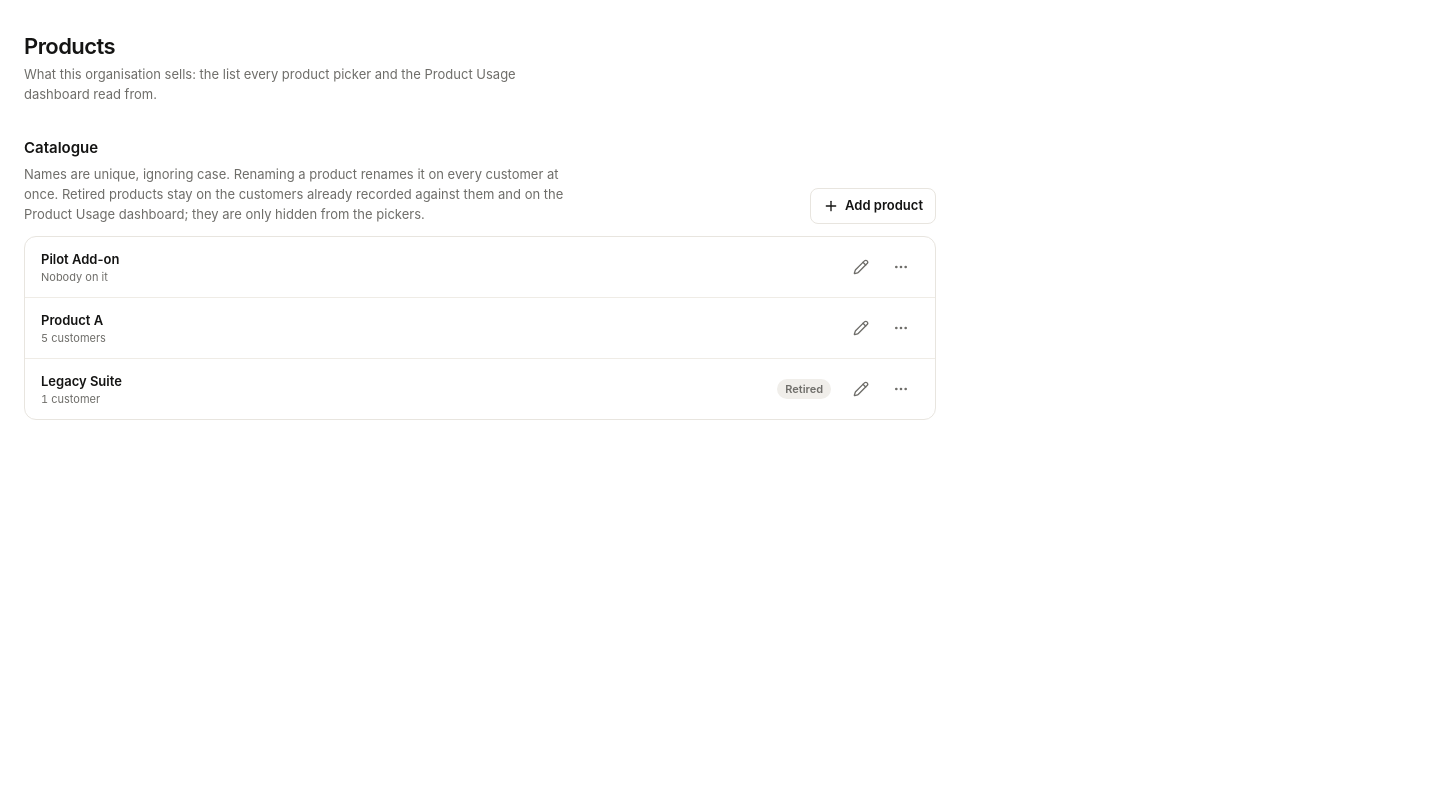
it: ProductsPage › shows the backend refusal if a delete is rejected anyway
The width and height of the screenshot is (1440, 810).
Expected: the text "Pilot Add-on" is shown, [41,251,119,267]
Step 1. Click the button named "More actions for Pilot Add-on" → click(901, 267), box [883,249,919,285]
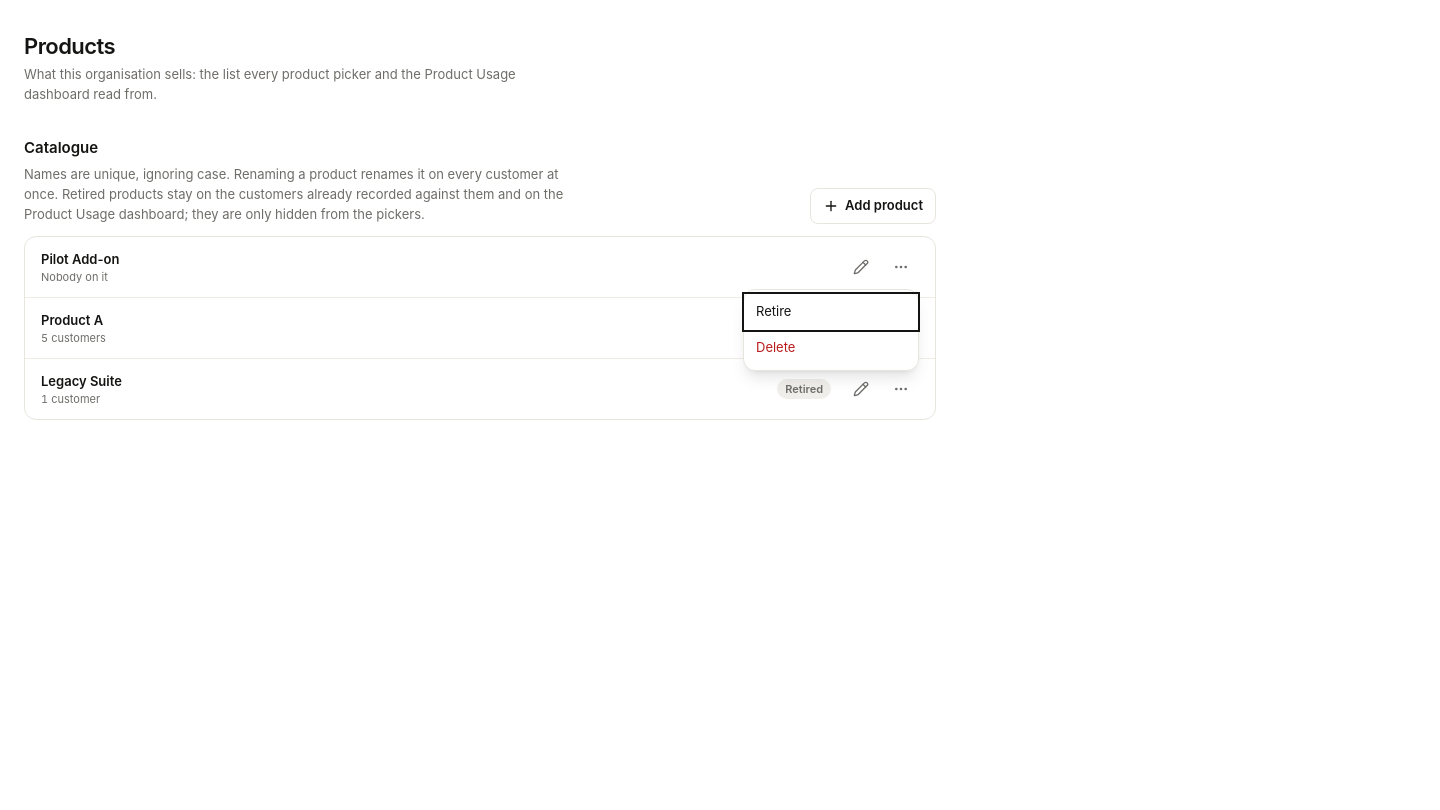
Step 2. Click the menu item "Delete" → click(831, 348), box [744,330,918,366]
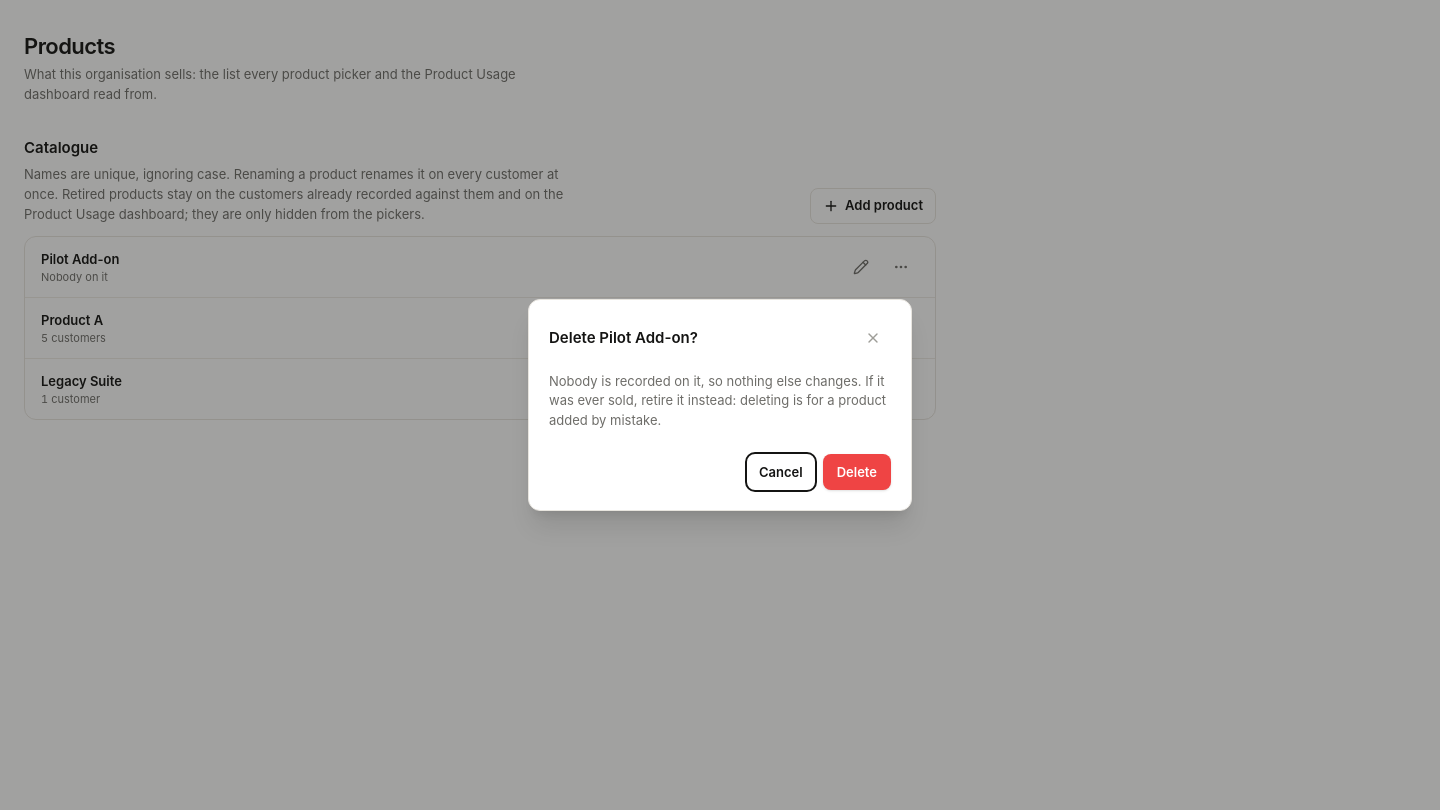
Step 3. Click the button "Delete" → click(857, 472), box [823,454,891,490]
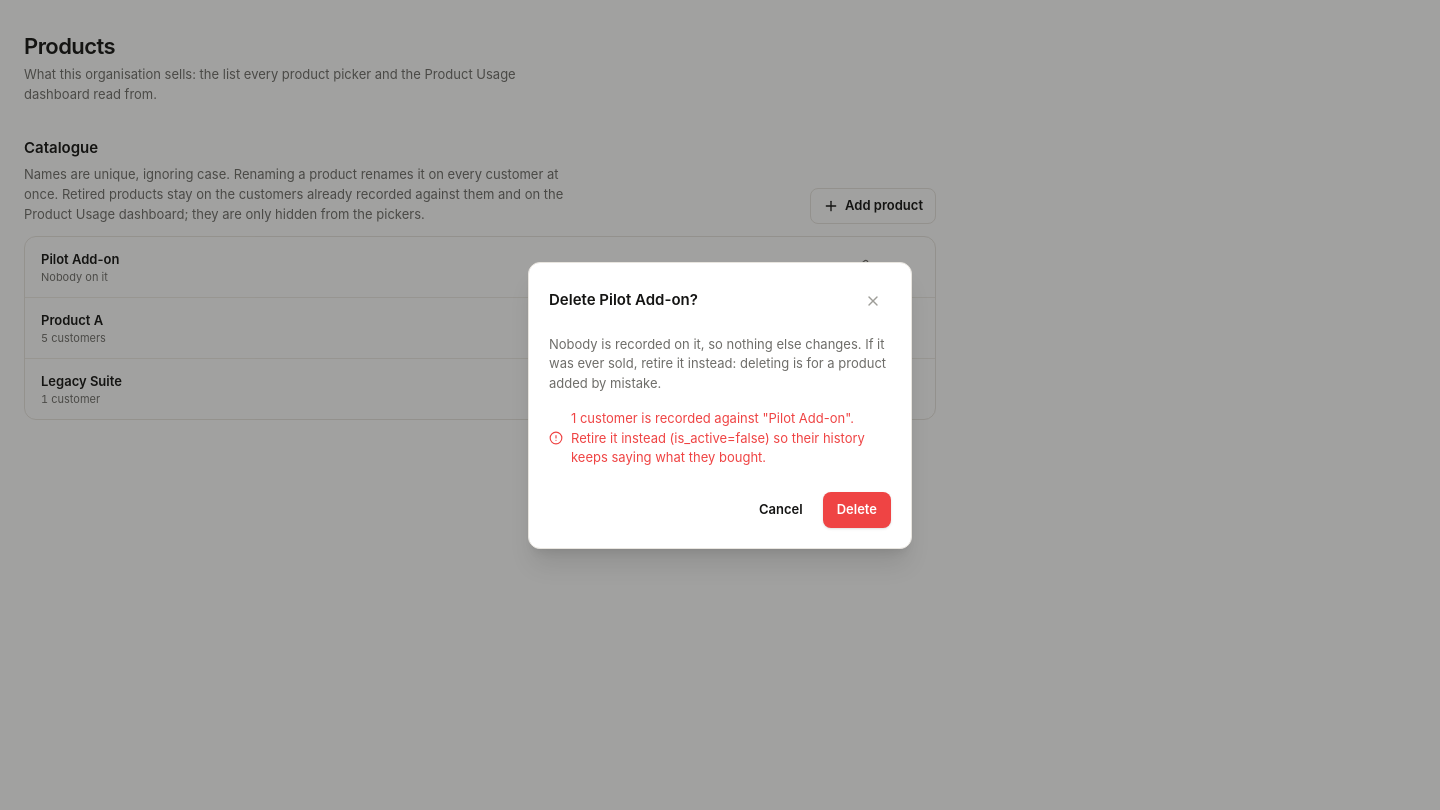
Expected: the text "Pilot Add-on" is shown, [41,251,119,267]
Expected: the text "Retire it instead" is shown, [571,410,865,465]
